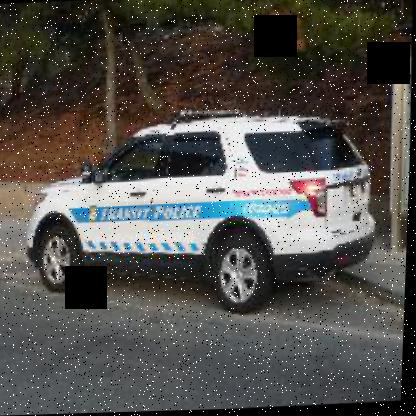emergency: (20, 95, 387, 328)
